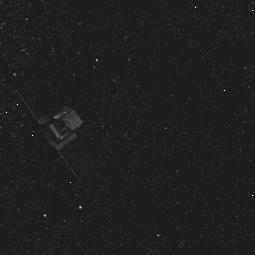soho: (12, 70, 100, 186)
